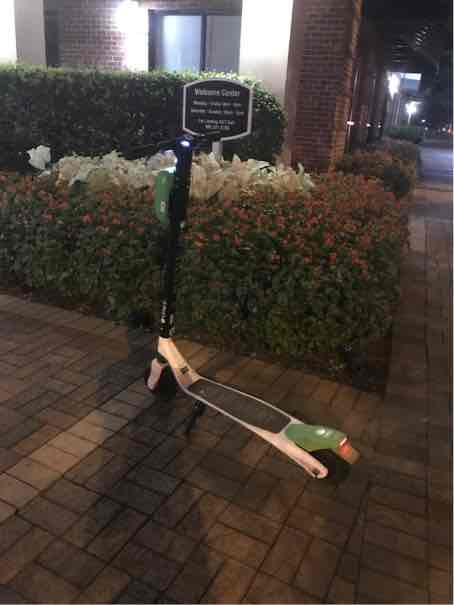scooter: (121, 121, 366, 485)
